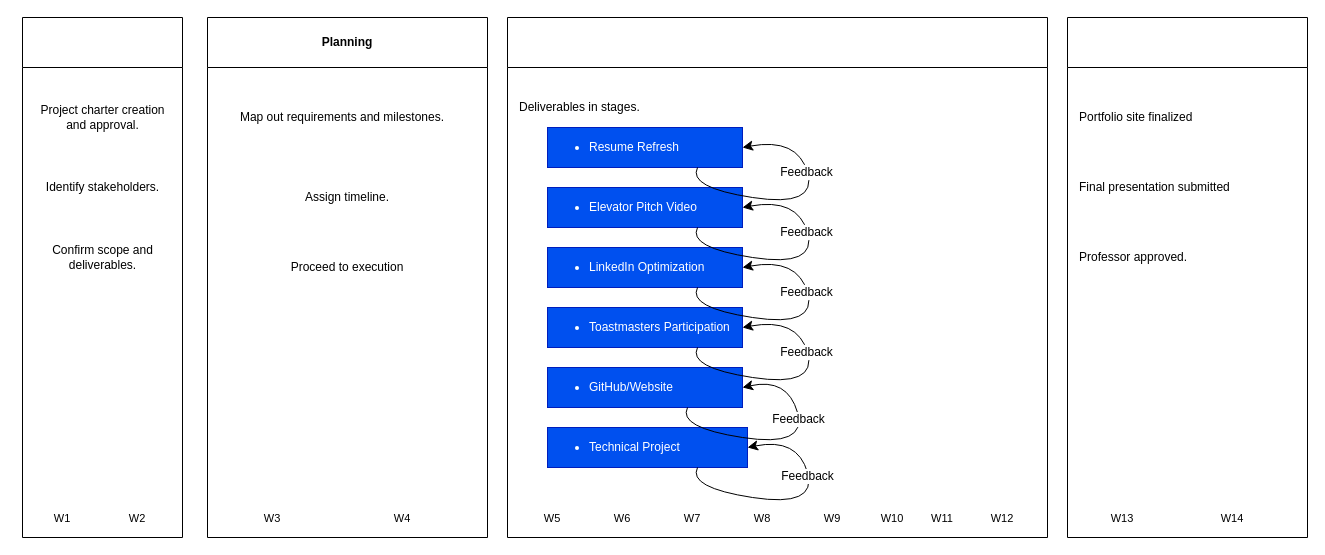
Image size: 1325x555. Some labels were removed from this diagram. The box of each missing label's shape, as (x1, y1, x2, y2) in pixels:
Closing: (1066, 16, 1308, 538)
Executing: (506, 16, 1048, 538)
Initiate: (22, 16, 182, 538)
